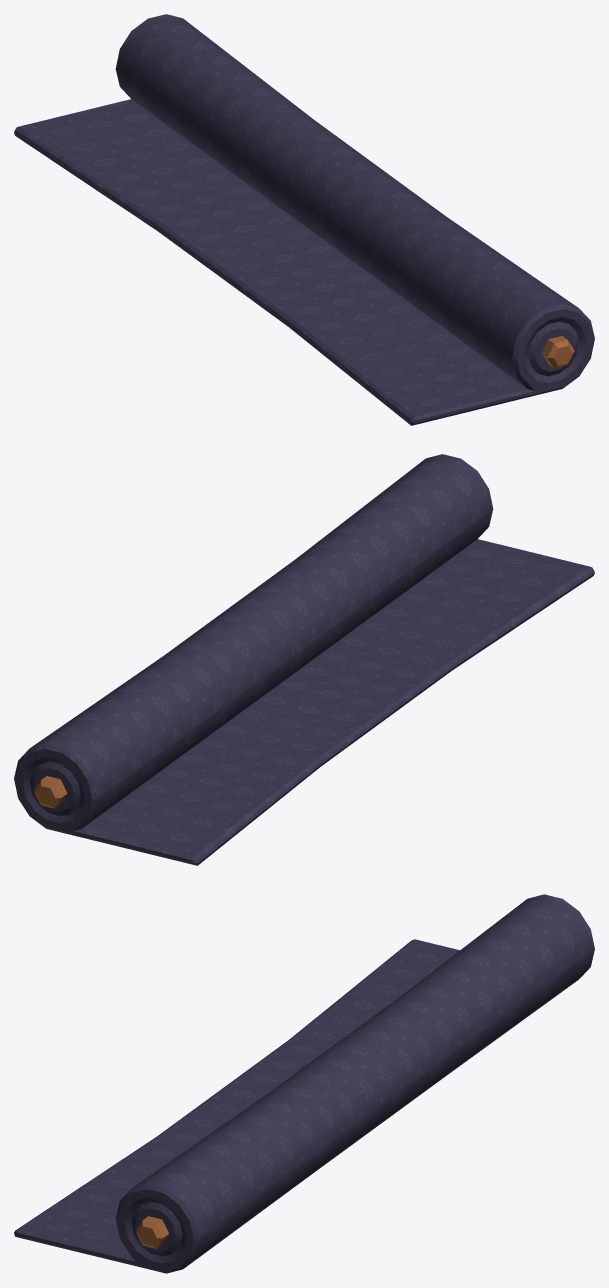
File: Cloth02.FBX
3 views of the same model, one above another, from view 1: azimuth 30°, elevation 25°; view 2: azimuth 150°, elevation 25°; view 3: azimuth 330°, elevation 25° (orthographic).
Visible parts, largest first — view 1: Cloth02; view 2: Cloth02; view 3: Cloth02.
Boxes of the visible parts, x1,y1,x2,y2 form: Cloth02: (14, 14, 594, 425); Cloth02: (14, 454, 594, 865); Cloth02: (14, 894, 594, 1273).
Size of the model in its own units: 13.34 by 5.87 by 52.
1 material, 1 textured.
